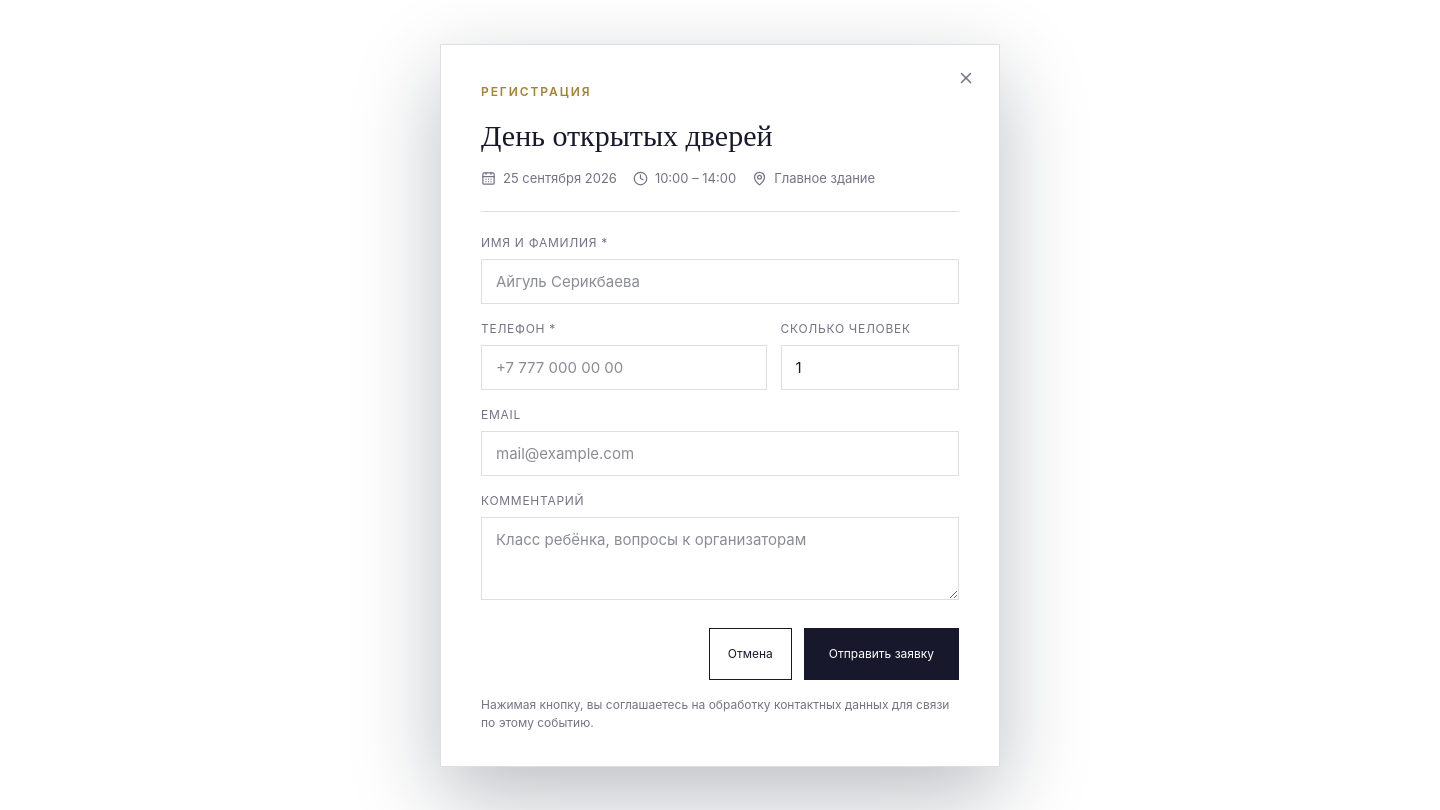
модальное окно регистрации › показывает ошибку, если сервер недоступен
This screenshot has width=1440, height=810.
Type "Марат Асанов" into the field labelled "Имя и фамилия".
click(720, 281); type("Марат Асанов")  # box [481, 258, 959, 304]
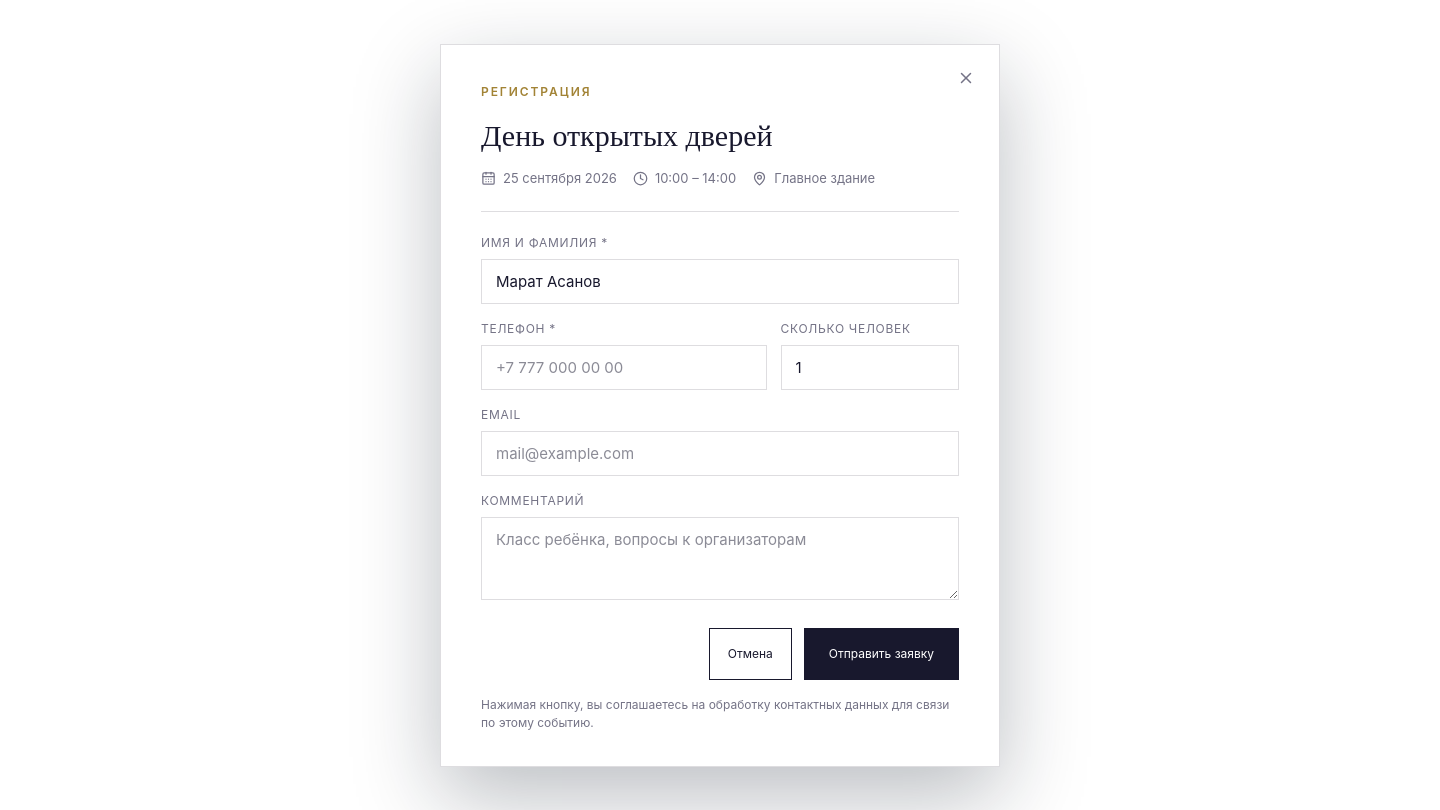
Type "87001234567" into the field labelled "Телефон".
click(624, 367); type("87001234567")  # box [481, 344, 766, 390]
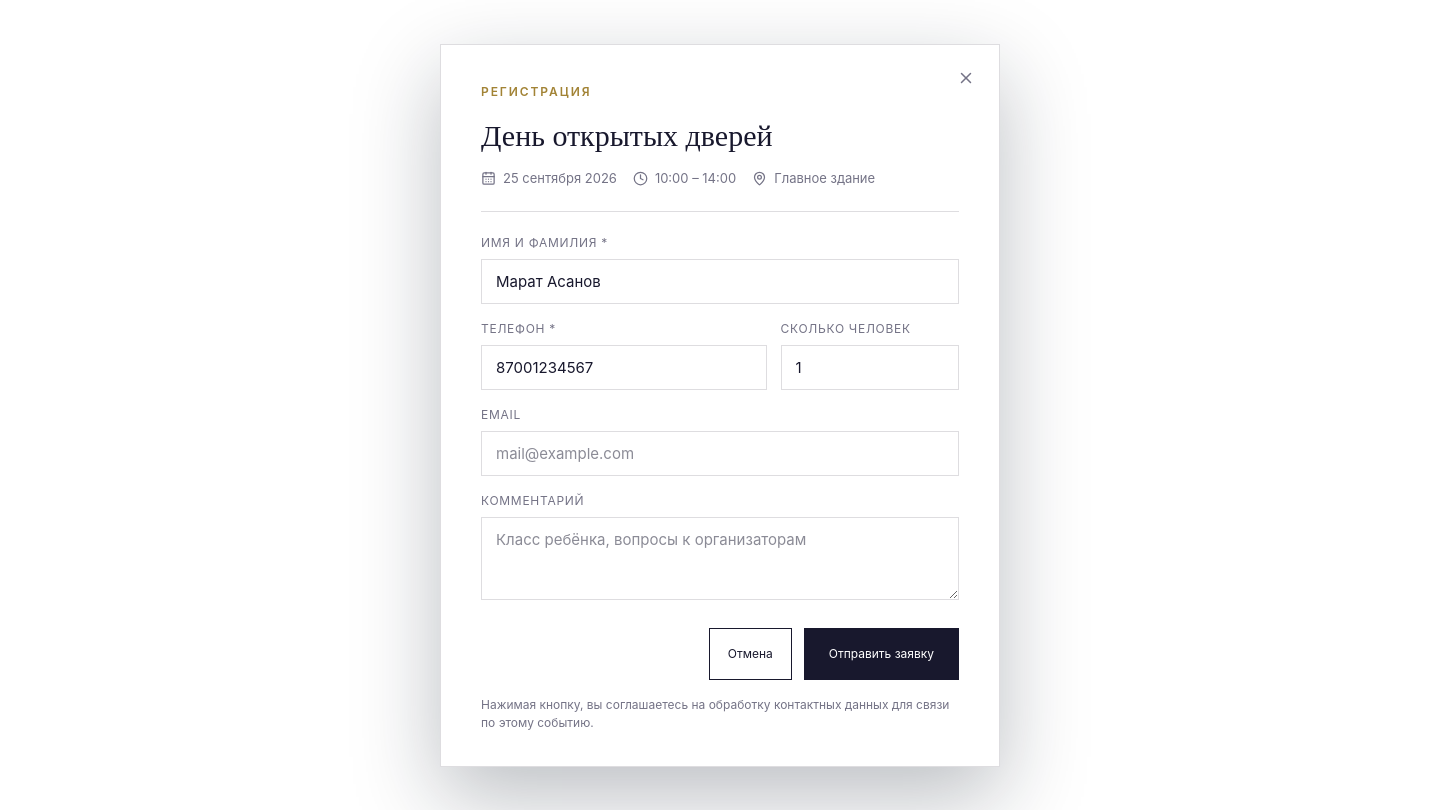
Click the button "Отправить заявку".
click(881, 654)  # box [804, 628, 959, 680]
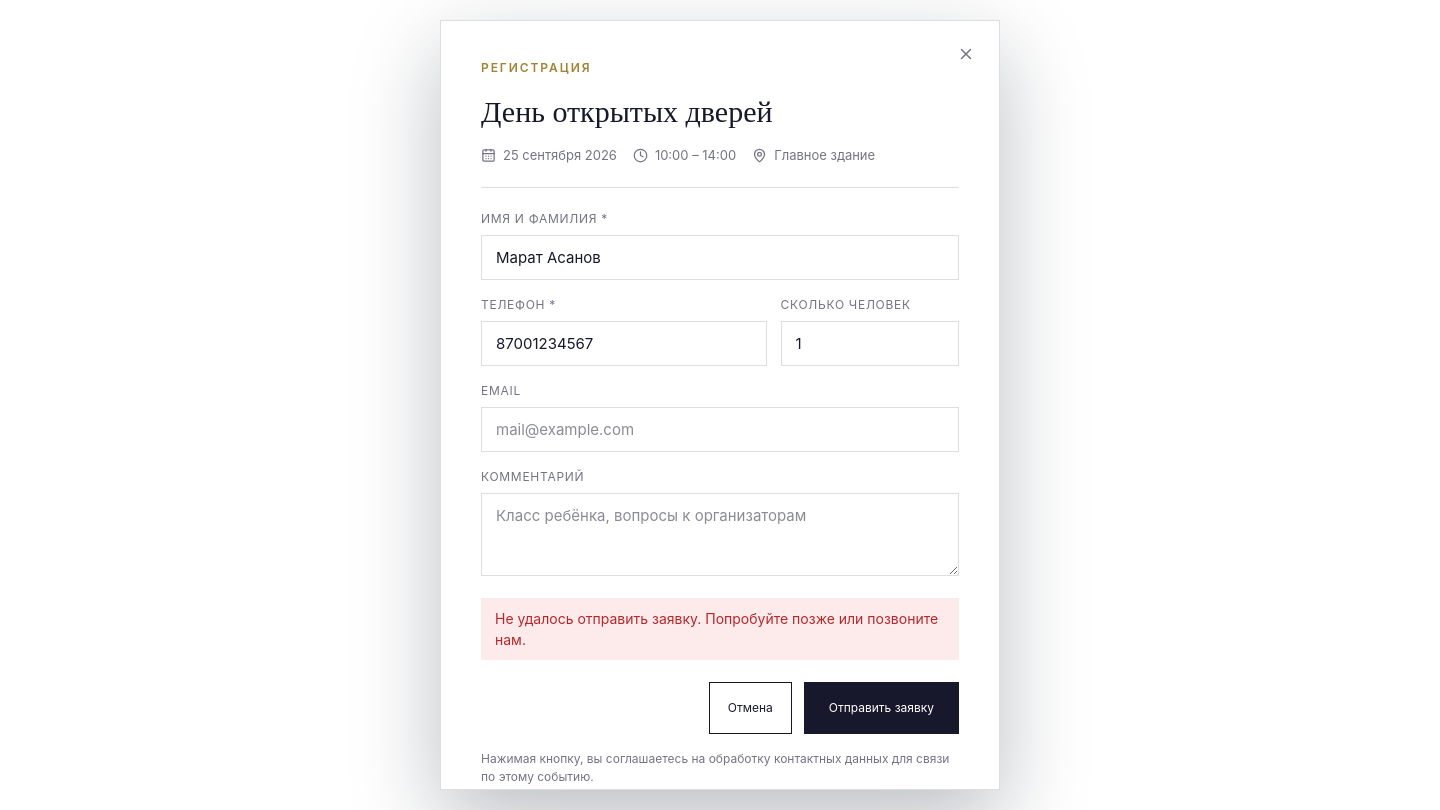
Expected: the text "Не удалось отправить заявку" is shown, [495, 610, 938, 648]
